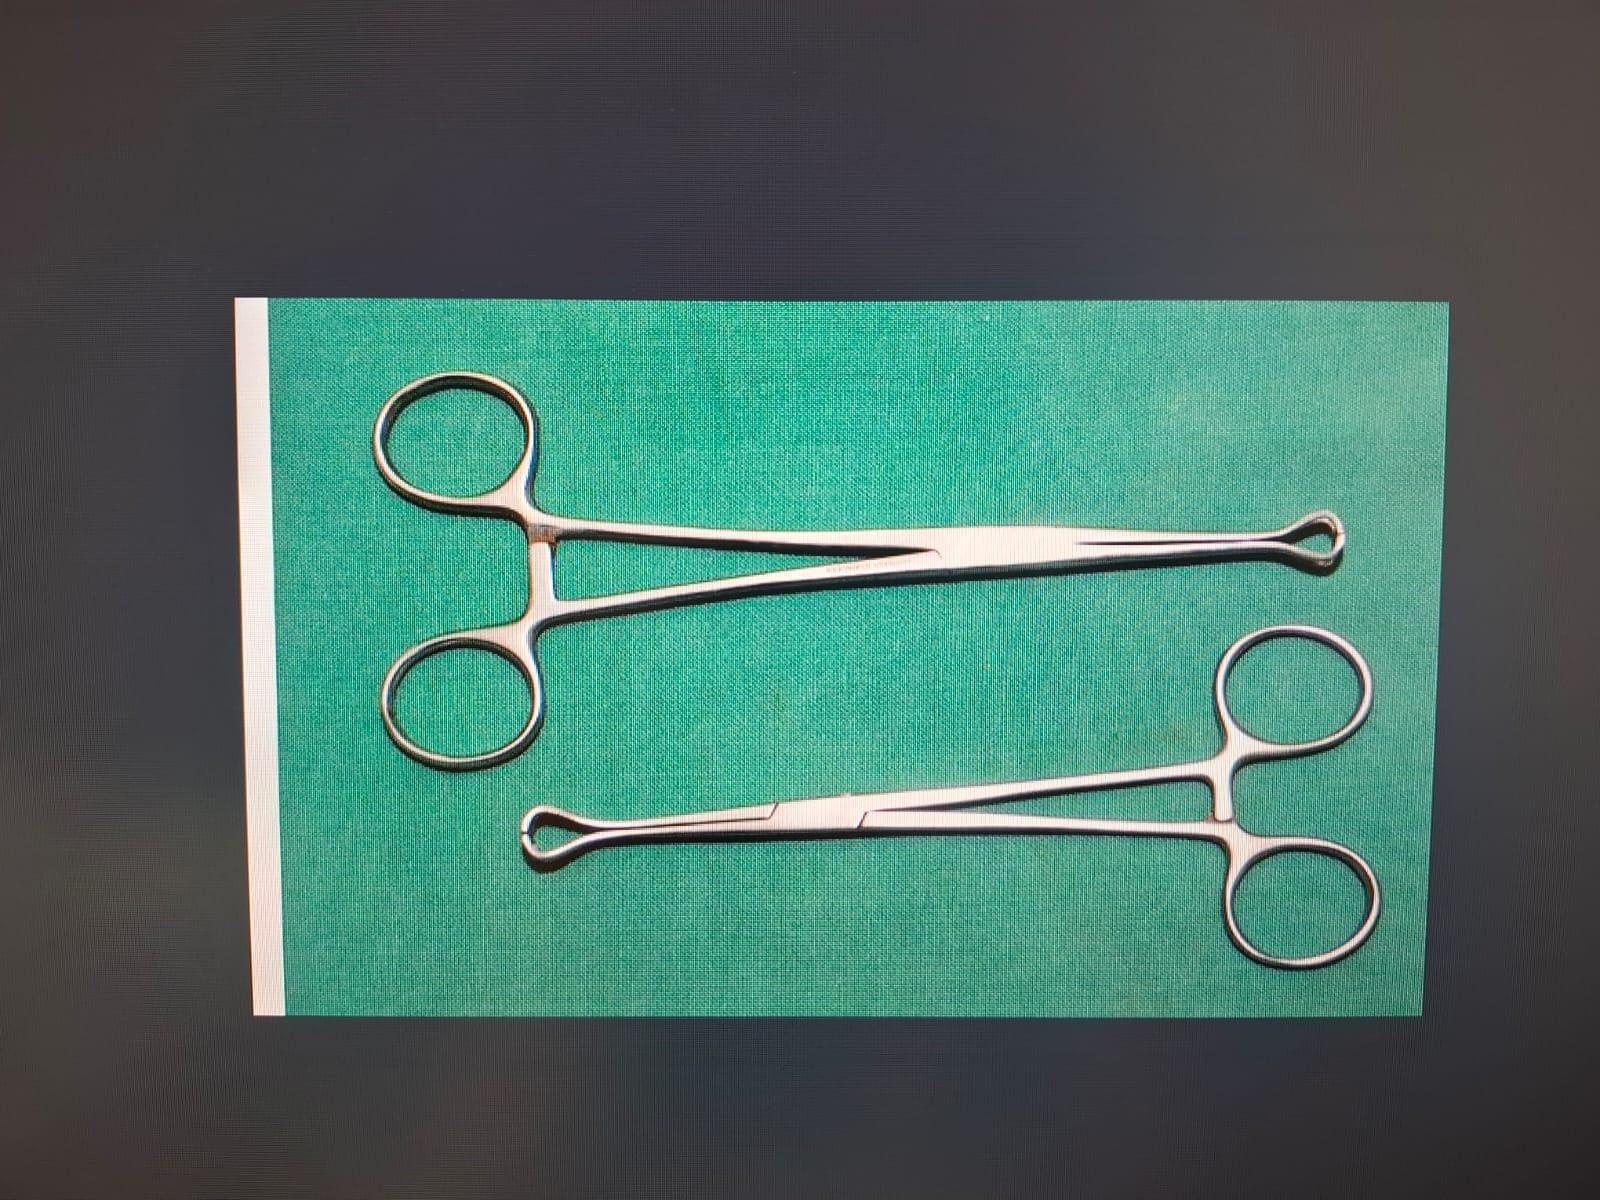Babcock Forceps: (368, 342, 1351, 778), (506, 620, 1390, 989)
